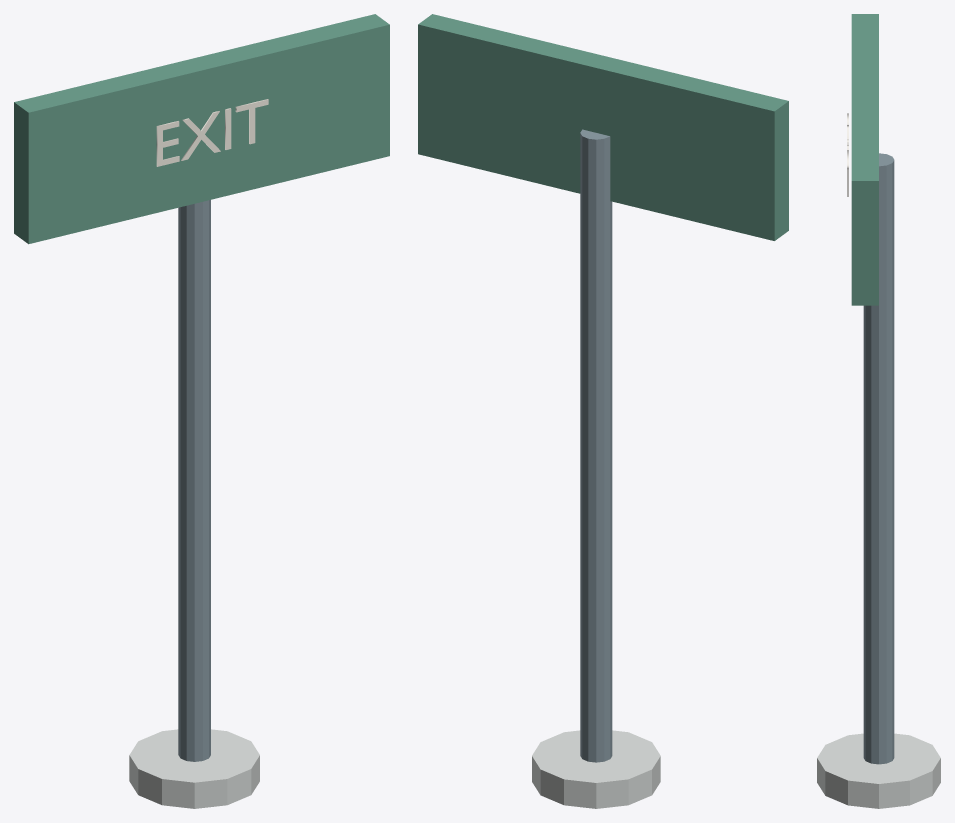
The model's file is exit.glb.
The picture shows the model from 3 angles, left to right: view 1: azimuth 30°, elevation 25°; view 2: azimuth 150°, elevation 25°; view 3: azimuth 270°, elevation 25°; orthographic projection. The views are drawn at different scales.
Visible parts, largest first — view 1: exit_002, exit_000, exit_001, exit_003; view 2: exit_002, exit_000, exit_001; view 3: exit_000, exit_002, exit_001.
Part boxes in pixels (left/top/right/bottom): exit_002: left=14, top=14, right=389, bottom=244; exit_000: left=178, top=200, right=210, bottom=761; exit_001: left=129, top=729, right=259, bottom=808; exit_003: left=156, top=99, right=268, bottom=166; exit_002: left=418, top=14, right=788, bottom=240; exit_000: left=580, top=129, right=612, bottom=762; exit_001: left=532, top=730, right=660, bottom=808; exit_000: left=863, top=153, right=894, bottom=764; exit_002: left=851, top=14, right=878, bottom=305; exit_001: left=817, top=733, right=940, bottom=808.
Bounding box in the file's own units: 1.15 × 2.2 × 0.36.
